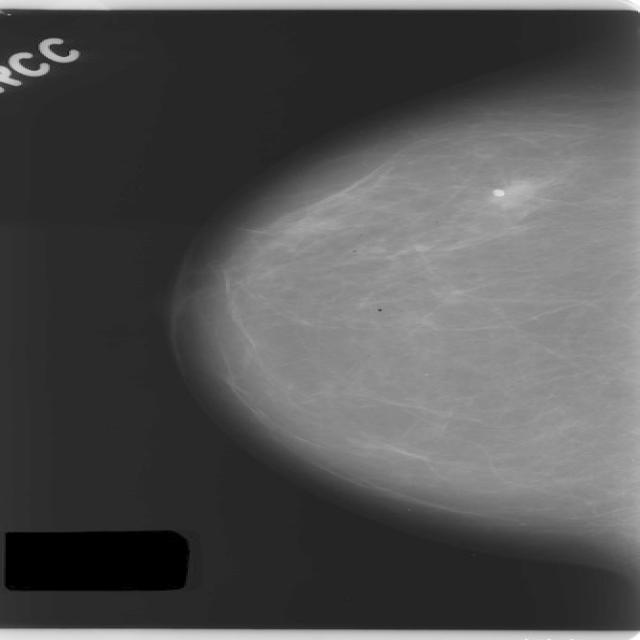tumour: (486, 181, 534, 203)
